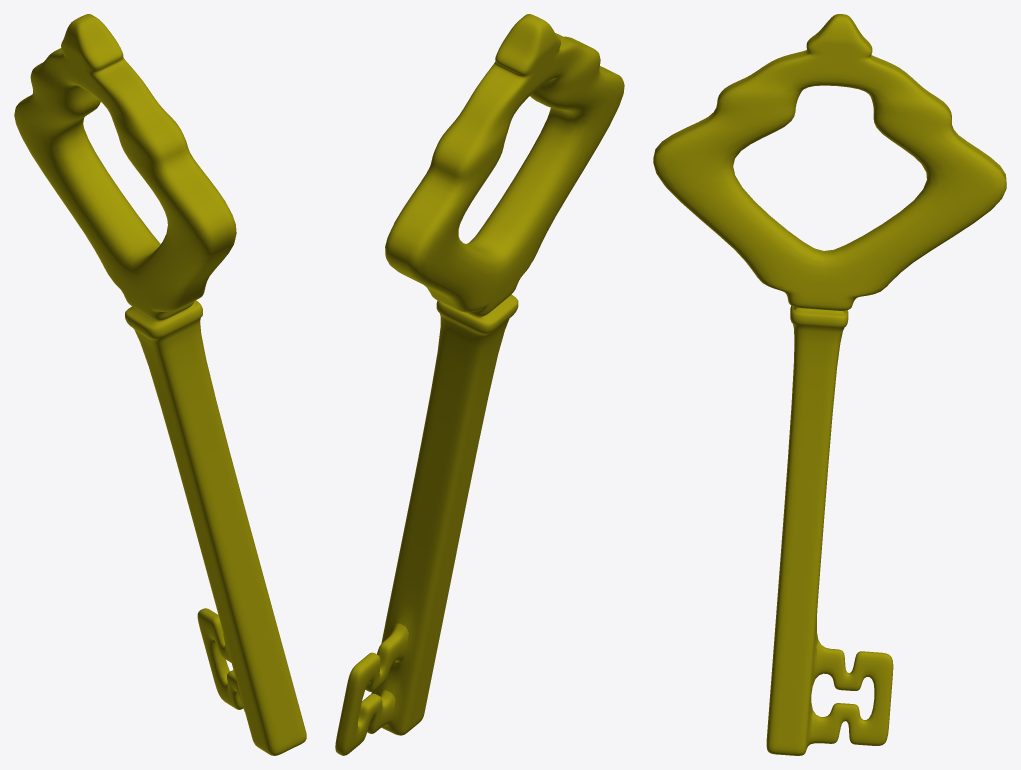
File: key_animation.glb
3 renders of one model, left to right at view 1: azimuth 30°, elevation 25°; view 2: azimuth 150°, elevation 25°; view 3: azimuth 270°, elevation 25°, orthographic. The views are drawn at different scales.
Parts seen in each view (by area): view 1: group; view 2: group; view 3: group.
Part boxes in pixels (x1,y1,x2,y2): group: (14,14,306,755); group: (335,14,624,755); group: (653,14,1006,755).
Size of the model in its own units: 0.5362 by 1.95 by 0.9351.
